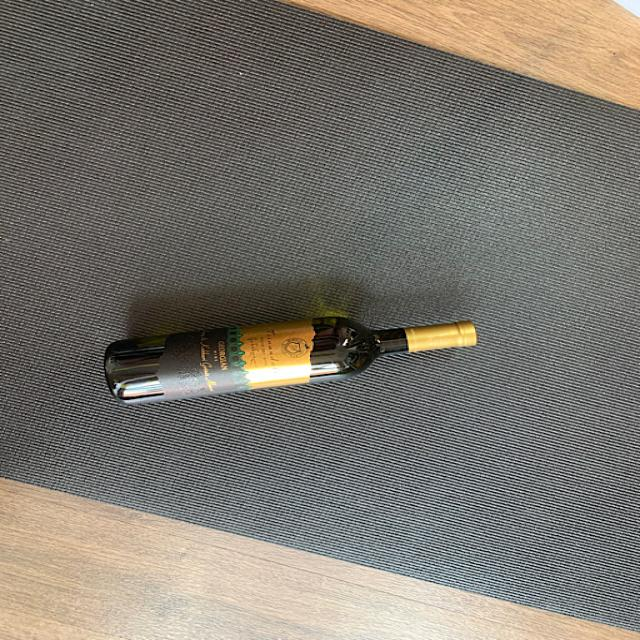litter: (96, 315, 482, 407)
